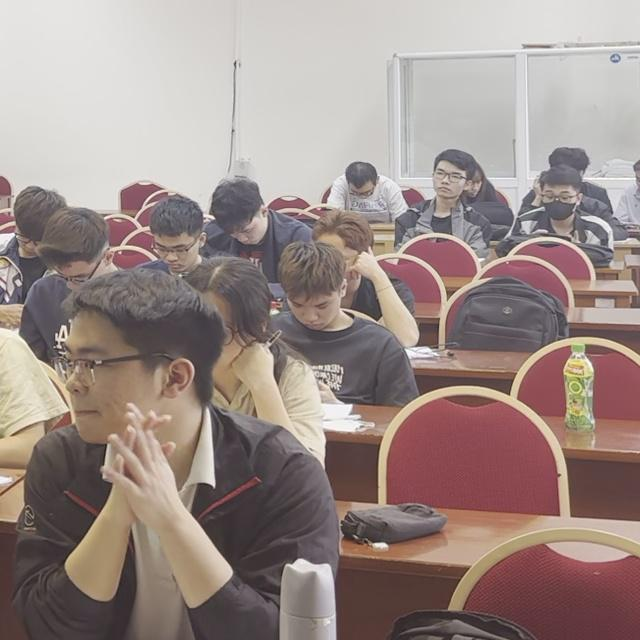Looking away: (56, 317, 157, 446), (287, 289, 341, 332), (154, 228, 201, 275), (223, 216, 273, 249), (540, 185, 578, 220), (346, 181, 376, 199)
Looking forward: (431, 163, 465, 199)
